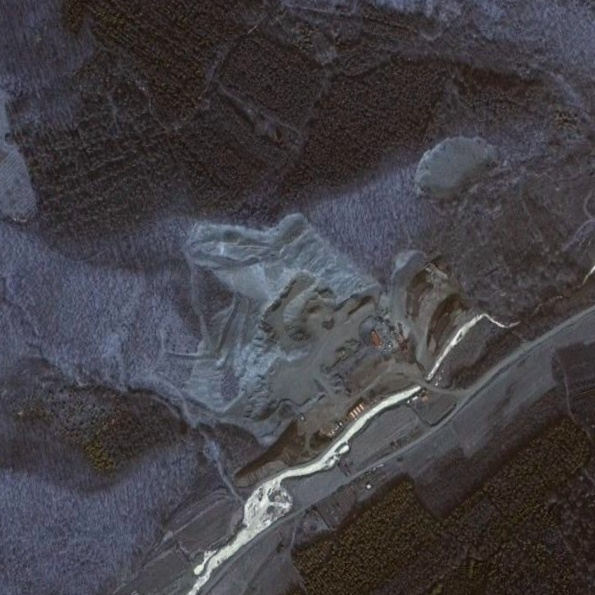slope: (184, 211, 367, 442), (391, 249, 469, 368), (411, 134, 508, 214)
